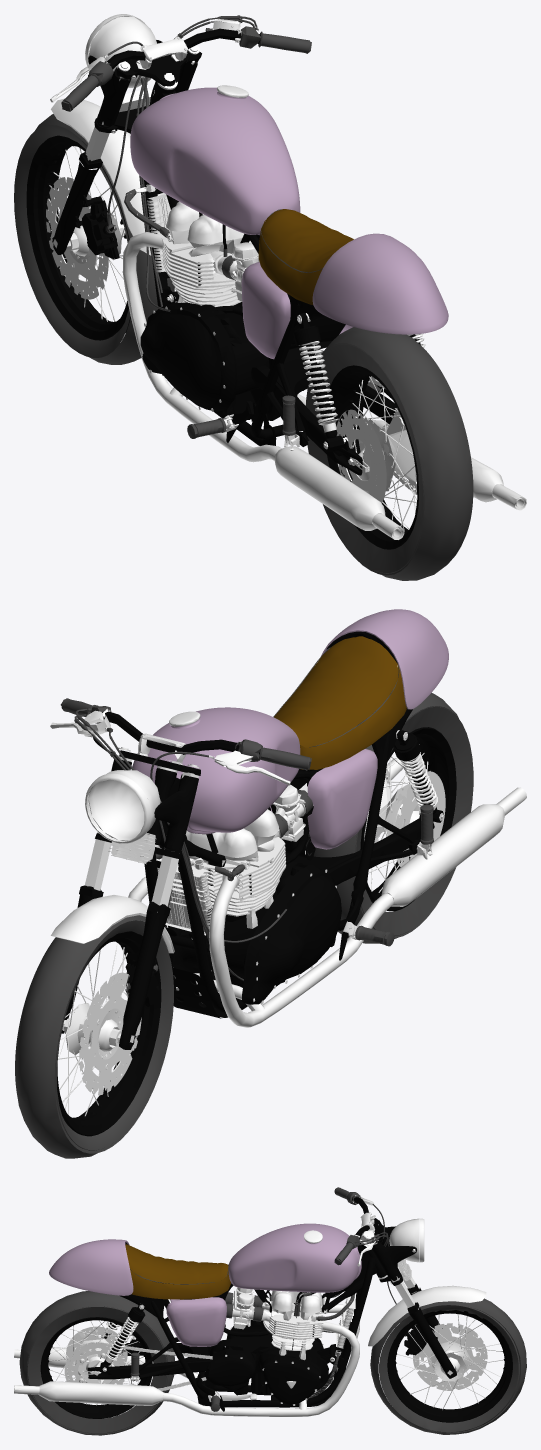
The model's file is CafeRacer.glb.
3 views of the same model, one above another, from view 1: azimuth 30°, elevation 25°; view 2: azimuth 150°, elevation 25°; view 3: azimuth 270°, elevation 25° (orthographic). The views are drawn at different scales.
Parts seen in each view (by area): view 1: tanksCombined-Purple Glossy (×2), Cylinder.025_Cylinder.006_remesh (×2), Cylinder.015_Cylinder.020_remesh, Cylinder.234_Cylinder.361_remesh, Cylinder.013_Cylinder.022_remesh, BezierCurve.001_Mesh.002_remesh, BezierCurve.015_Mesh.007_remesh, Cylinder.072_Cylinder.091_remesh, frame_Mesh.008_remesh, Cylinder_remesh, Cube.008_Cube.019_remesh, Cube.030_Cube.036_remesh (+24 smaller); view 2: tanksCombined-Purple Glossy (×2), Cylinder.025_Cylinder.006_remesh (×2), Cube.008_Cube.019_remesh, Cylinder.015_Cylinder.020_remesh, frame_Mesh.008_remesh, BezierCurve.001_Mesh.002_remesh, Cube.023_Cube.004_remesh, Cylinder.013_Cylinder.022_remesh, Cylinder.072_Cylinder.091_remesh, BezierCurve.015_Mesh.007_remesh, Cylinder.234_Cylinder.361_remesh, Cylinder_remesh (+25 smaller); view 3: tanksCombined-Purple Glossy (×2), Cylinder.025_Cylinder.006_remesh (×2), frame_Mesh.008_remesh, Cylinder.013_Cylinder.022_remesh, Cylinder.015_Cylinder.020_remesh, Cylinder.072_Cylinder.091_remesh, Cylinder.234_Cylinder.361_remesh, BezierCurve.001_Mesh.002_remesh, BezierCurve.015_Mesh.007_remesh, Cube.023_Cube.004_remesh, Cube.008_Cube.019_remesh, Cylinder.058_Cylinder.103_remesh (+29 smaller).
Boxes of the visible parts, x1=… form: tanksCombined-Purple Glossy (×2): x1=130, y1=87, x2=448, y2=334; Cylinder.025_Cylinder.006_remesh (×2): x1=34, y1=114, x2=473, y2=580; Cylinder.015_Cylinder.020_remesh: x1=140, y1=302, x2=331, y2=411; Cylinder.234_Cylinder.361_remesh: x1=26, y1=135, x2=130, y2=340; Cylinder.013_Cylinder.022_remesh: x1=305, y1=343, x2=424, y2=575; BezierCurve.001_Mesh.002_remesh: x1=122, y1=232, x2=526, y2=539; BezierCurve.015_Mesh.007_remesh: x1=274, y1=423, x2=503, y2=530; Cylinder.072_Cylinder.091_remesh: x1=14, y1=125, x2=130, y2=357; frame_Mesh.008_remesh: x1=144, y1=80, x2=392, y2=446; Cylinder_remesh: x1=52, y1=50, x2=201, y2=254; Cube.008_Cube.019_remesh: x1=261, y1=209, x2=353, y2=271; Cube.030_Cube.036_remesh: x1=162, y1=229, x2=250, y2=306; tanksCombined-Purple Glossy (×2): x1=132, y1=609, x2=448, y2=834; Cylinder.025_Cylinder.006_remesh (×2): x1=15, y1=692, x2=458, y2=1158; Cube.008_Cube.019_remesh: x1=274, y1=636, x2=398, y2=747; Cylinder.015_Cylinder.020_remesh: x1=165, y1=865, x2=341, y2=1004; frame_Mesh.008_remesh: x1=144, y1=708, x2=419, y2=1012; BezierCurve.001_Mesh.002_remesh: x1=128, y1=758, x2=526, y2=1027; Cube.023_Cube.004_remesh: x1=270, y1=749, x2=377, y2=849; Cylinder.013_Cylinder.022_remesh: x1=355, y1=706, x2=473, y2=938; Cylinder.072_Cylinder.091_remesh: x1=54, y1=920, x2=173, y2=1153; BezierCurve.015_Mesh.007_remesh: x1=305, y1=804, x2=504, y2=906; Cylinder.234_Cylinder.361_remesh: x1=57, y1=931, x2=161, y2=1136; Cylinder_remesh: x1=61, y1=750, x2=200, y2=1049; tanksCombined-Purple Glossy (×2): x1=49, y1=1223, x2=361, y2=1295; Cylinder.025_Cylinder.006_remesh (×2): x1=19, y1=1291, x2=526, y2=1435; frame_Mesh.008_remesh: x1=130, y1=1243, x2=386, y2=1407; Cylinder.013_Cylinder.022_remesh: x1=27, y1=1306, x2=168, y2=1434; Cylinder.015_Cylinder.020_remesh: x1=204, y1=1338, x2=321, y2=1405; Cylinder.072_Cylinder.091_remesh: x1=379, y1=1305, x2=520, y2=1433; Cylinder.234_Cylinder.361_remesh: x1=387, y1=1310, x2=512, y2=1422; BezierCurve.001_Mesh.002_remesh: x1=14, y1=1304, x2=359, y2=1416; BezierCurve.015_Mesh.007_remesh: x1=39, y1=1347, x2=163, y2=1405; Cube.023_Cube.004_remesh: x1=166, y1=1297, x2=226, y2=1346; Cube.008_Cube.019_remesh: x1=125, y1=1244, x2=228, y2=1283; Cylinder.058_Cylinder.103_remesh: x1=413, y1=1323, x2=487, y2=1390.
Size of what is drawn, in the model's own units: 0.0495 by 0.0703 by 0.1478.
